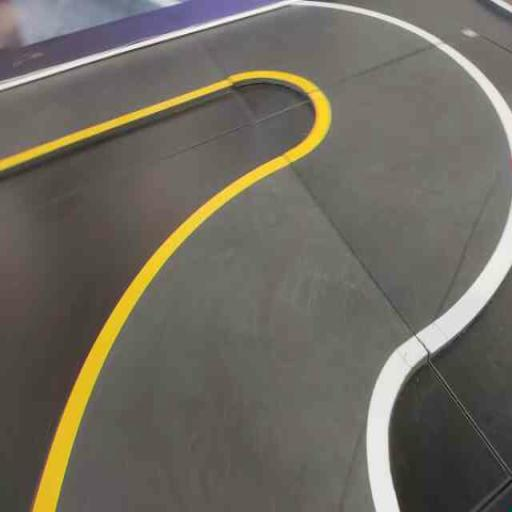right: (31, 146, 511, 511)
